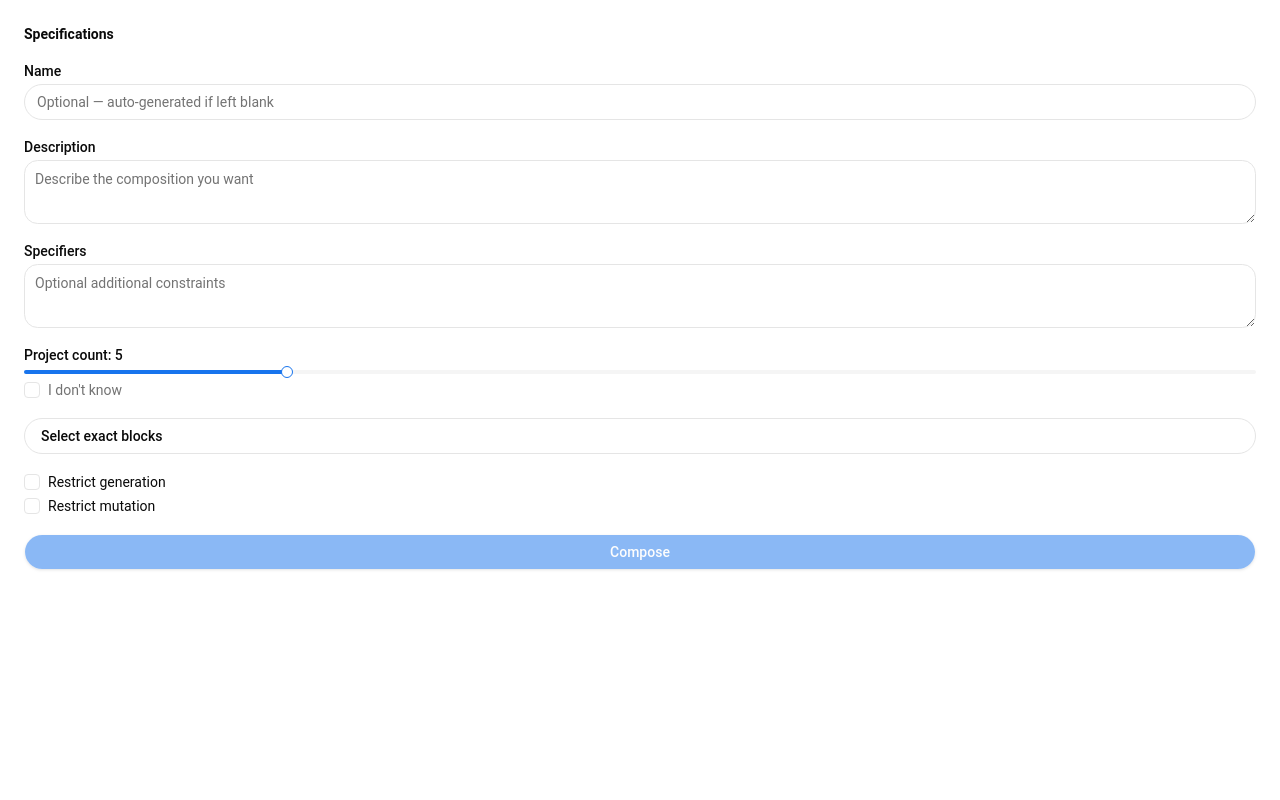
Test case: Compose is disabled until the description is non-empty
This screenshot has width=1280, height=800.
Check: the button "Compose" is disabled, box [24, 534, 1256, 570]
Type "A backend engineer" into the text box labelled "Description" at (640, 192), box [24, 160, 1256, 224]
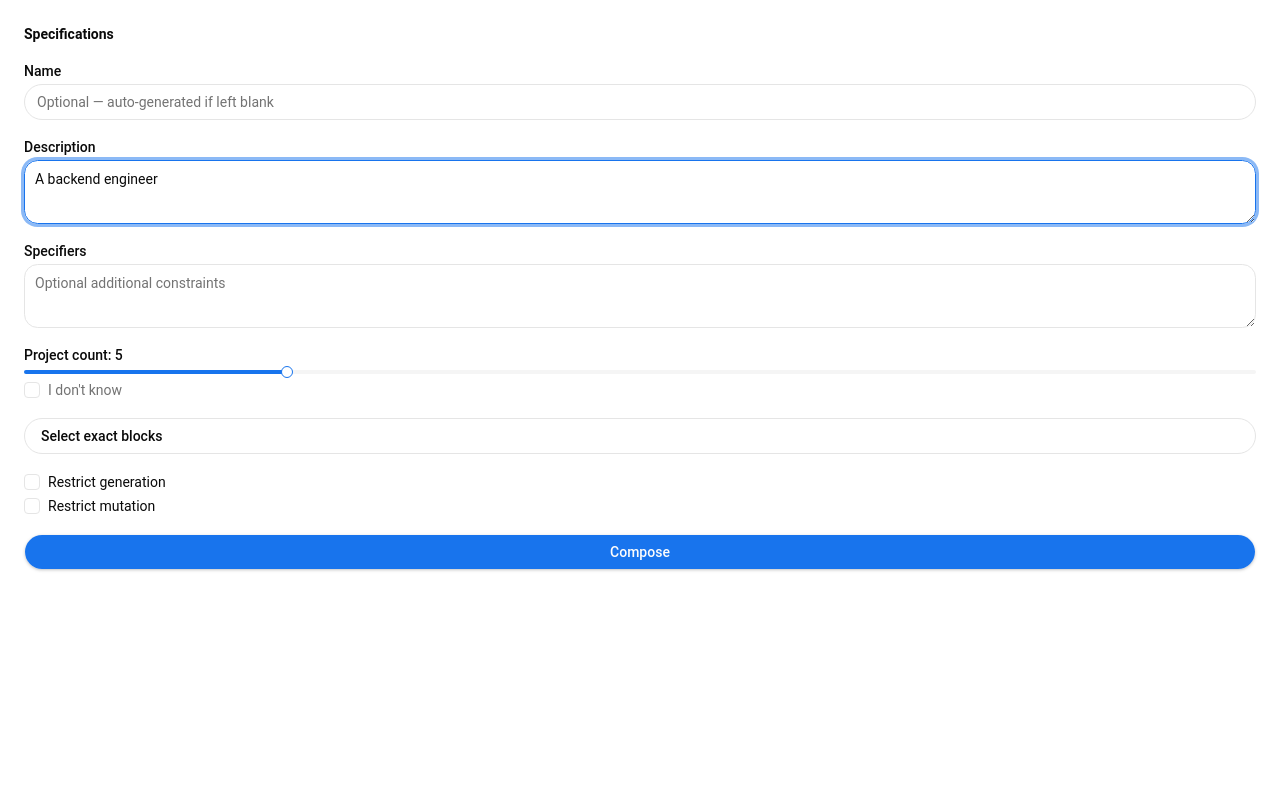
Check: the button "Compose" is enabled, box [24, 534, 1256, 570]
